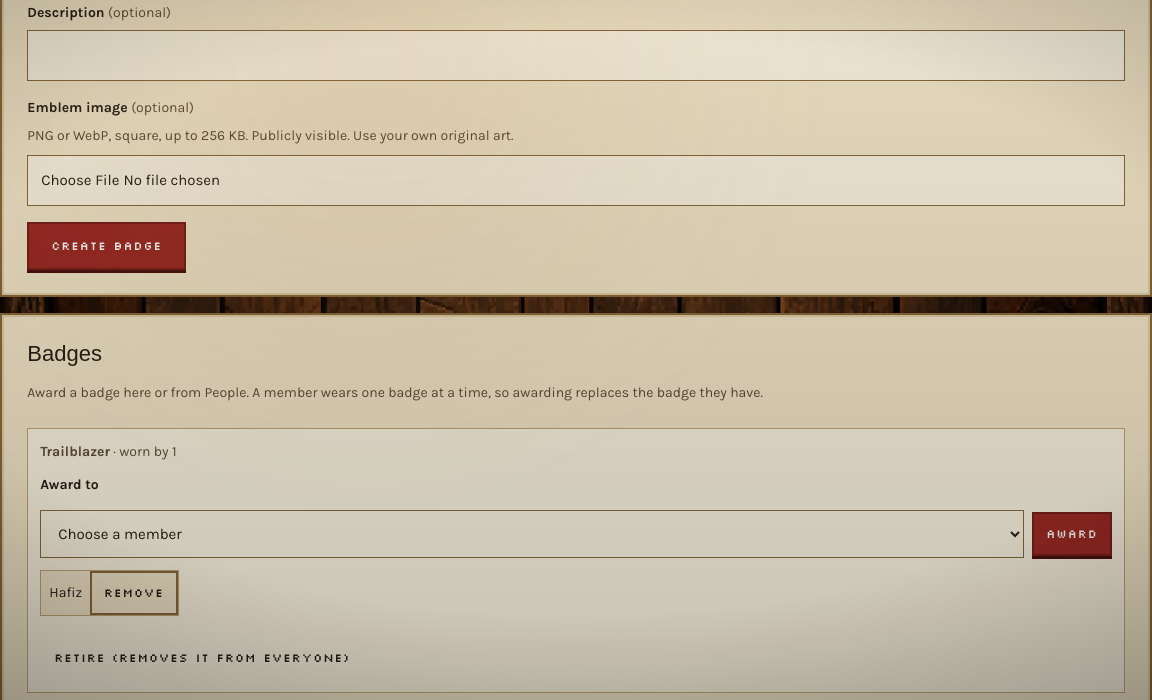
Test: awards a badge to a member chosen from the dropdown
(page scrolled)
Select "Aina" in the dropdown labelled "Award to" at (532, 534), box [40,510,1024,558]
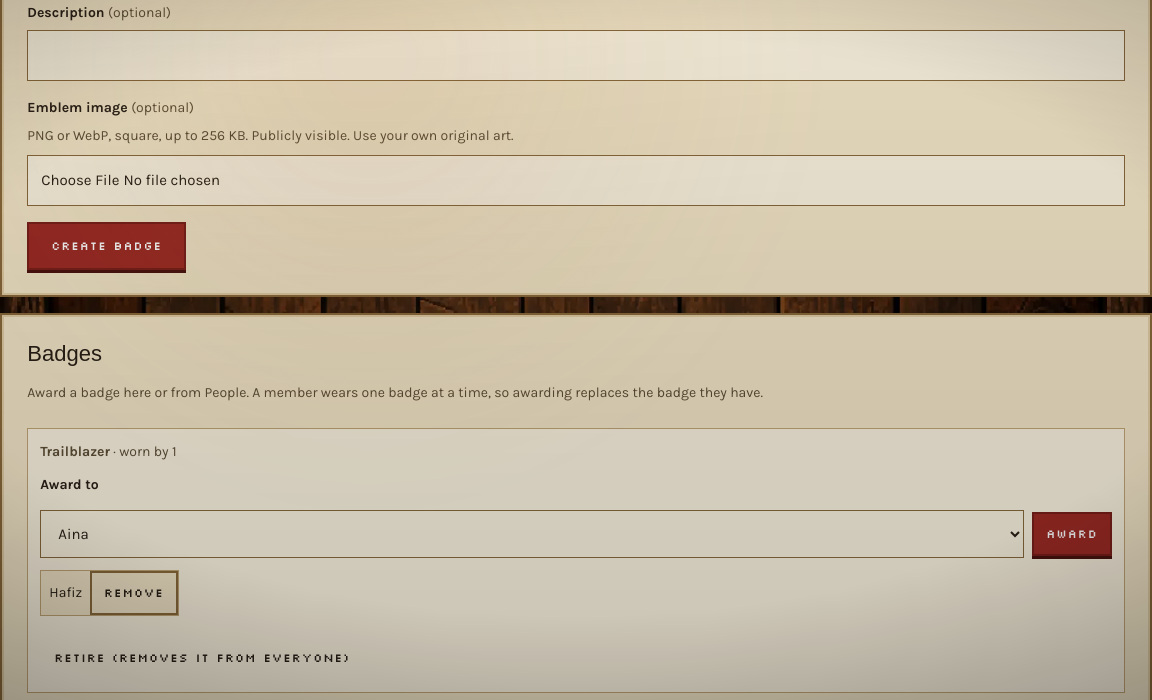
Click the button "Award".
click(1072, 534)  # box [1032,512,1112,556]
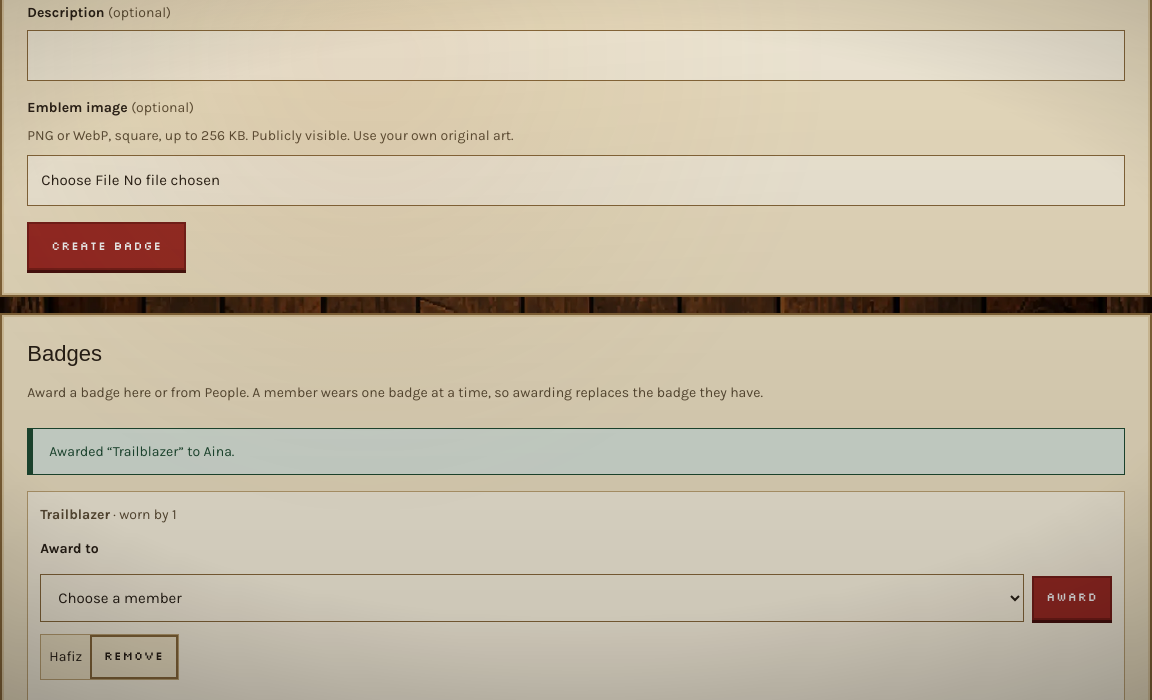
Result: the message reads "Awarded “Trailblazer” to Aina." at [49,442,234,460]
